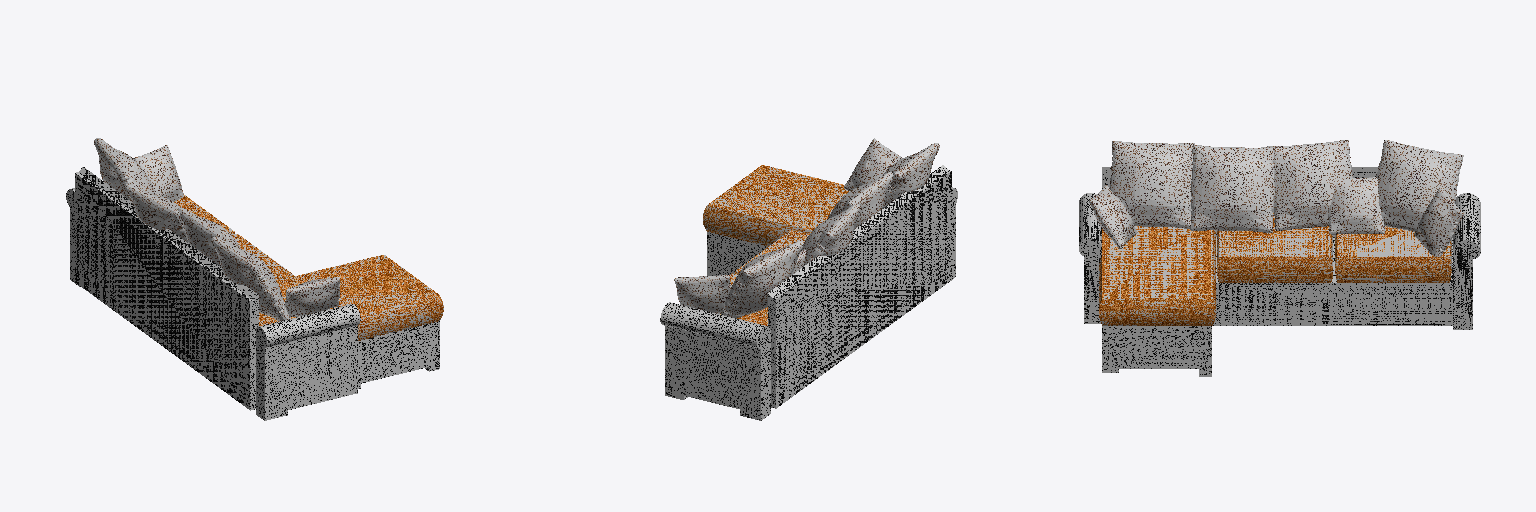
3 views of the same model, side by side, from view 1: azimuth 30°, elevation 25°; view 2: azimuth 150°, elevation 25°; view 3: azimuth 270°, elevation 25° (orthographic).
Visible parts, largest first — view 1: mesh5_mesh5-geometry, mesh3.001_mesh3-geometry, mesh3.004_mesh3-geometry, mesh4.001_mesh4-geometry, mesh3.003_mesh3-geometry, mesh4.002_mesh4-geometry, mesh3.002_mesh3-geometry, mesh1.001_mesh1-geometry; view 2: mesh5_mesh5-geometry, mesh3.004_mesh3-geometry, mesh3.003_mesh3-geometry, mesh4.002_mesh4-geometry, mesh3.001_mesh3-geometry, mesh3.002_mesh3-geometry, mesh4.001_mesh4-geometry; view 3: mesh5_mesh5-geometry, mesh3.002_mesh3-geometry, mesh3.001_mesh3-geometry, mesh1.001_mesh1-geometry, mesh3.003_mesh3-geometry, mesh3.004_mesh3-geometry, mesh1.002_mesh1-geometry, mesh4.003_mesh4-geometry, mesh4.002_mesh4-geometry, mesh4.001_mesh4-geometry.
Part boxes in pixels (left/top/right/bottom): mesh5_mesh5-geometry: left=66, top=167, right=443, bottom=420; mesh3.001_mesh3-geometry: left=212, top=237, right=290, bottom=321; mesh3.004_mesh3-geometry: left=94, top=138, right=155, bottom=200; mesh4.001_mesh4-geometry: left=285, top=277, right=339, bottom=316; mesh3.003_mesh3-geometry: left=125, top=184, right=187, bottom=242; mesh4.002_mesh4-geometry: left=133, top=145, right=183, bottom=201; mesh3.002_mesh3-geometry: left=178, top=207, right=240, bottom=266; mesh1.001_mesh1-geometry: left=232, top=234, right=293, bottom=280; mesh5_mesh5-geometry: left=660, top=165, right=957, bottom=420; mesh3.004_mesh3-geometry: left=721, top=241, right=802, bottom=318; mesh3.003_mesh3-geometry: left=802, top=204, right=860, bottom=266; mesh4.002_mesh4-geometry: left=674, top=275, right=731, bottom=313; mesh3.001_mesh3-geometry: left=882, top=143, right=939, bottom=208; mesh3.002_mesh3-geometry: left=828, top=172, right=893, bottom=229; mesh4.001_mesh4-geometry: left=844, top=138, right=901, bottom=190; mesh5_mesh5-geometry: left=1079, top=167, right=1480, bottom=376; mesh3.002_mesh3-geometry: left=1190, top=145, right=1274, bottom=232; mesh3.001_mesh3-geometry: left=1110, top=141, right=1194, bottom=228; mesh1.001_mesh1-geometry: left=1217, top=213, right=1332, bottom=282; mesh3.003_mesh3-geometry: left=1267, top=140, right=1352, bottom=230; mesh3.004_mesh3-geometry: left=1376, top=140, right=1463, bottom=231; mesh1.002_mesh1-geometry: left=1335, top=226, right=1451, bottom=282; mesh4.003_mesh4-geometry: left=1328, top=177, right=1384, bottom=234; mesh4.002_mesh4-geometry: left=1414, top=187, right=1463, bottom=256; mesh4.001_mesh4-geometry: left=1089, top=185, right=1137, bottom=248.
Bounding box in the file's own units: 0.4599 × 0.3359 × 0.822.
Materials: 5 (3 with a texture image).